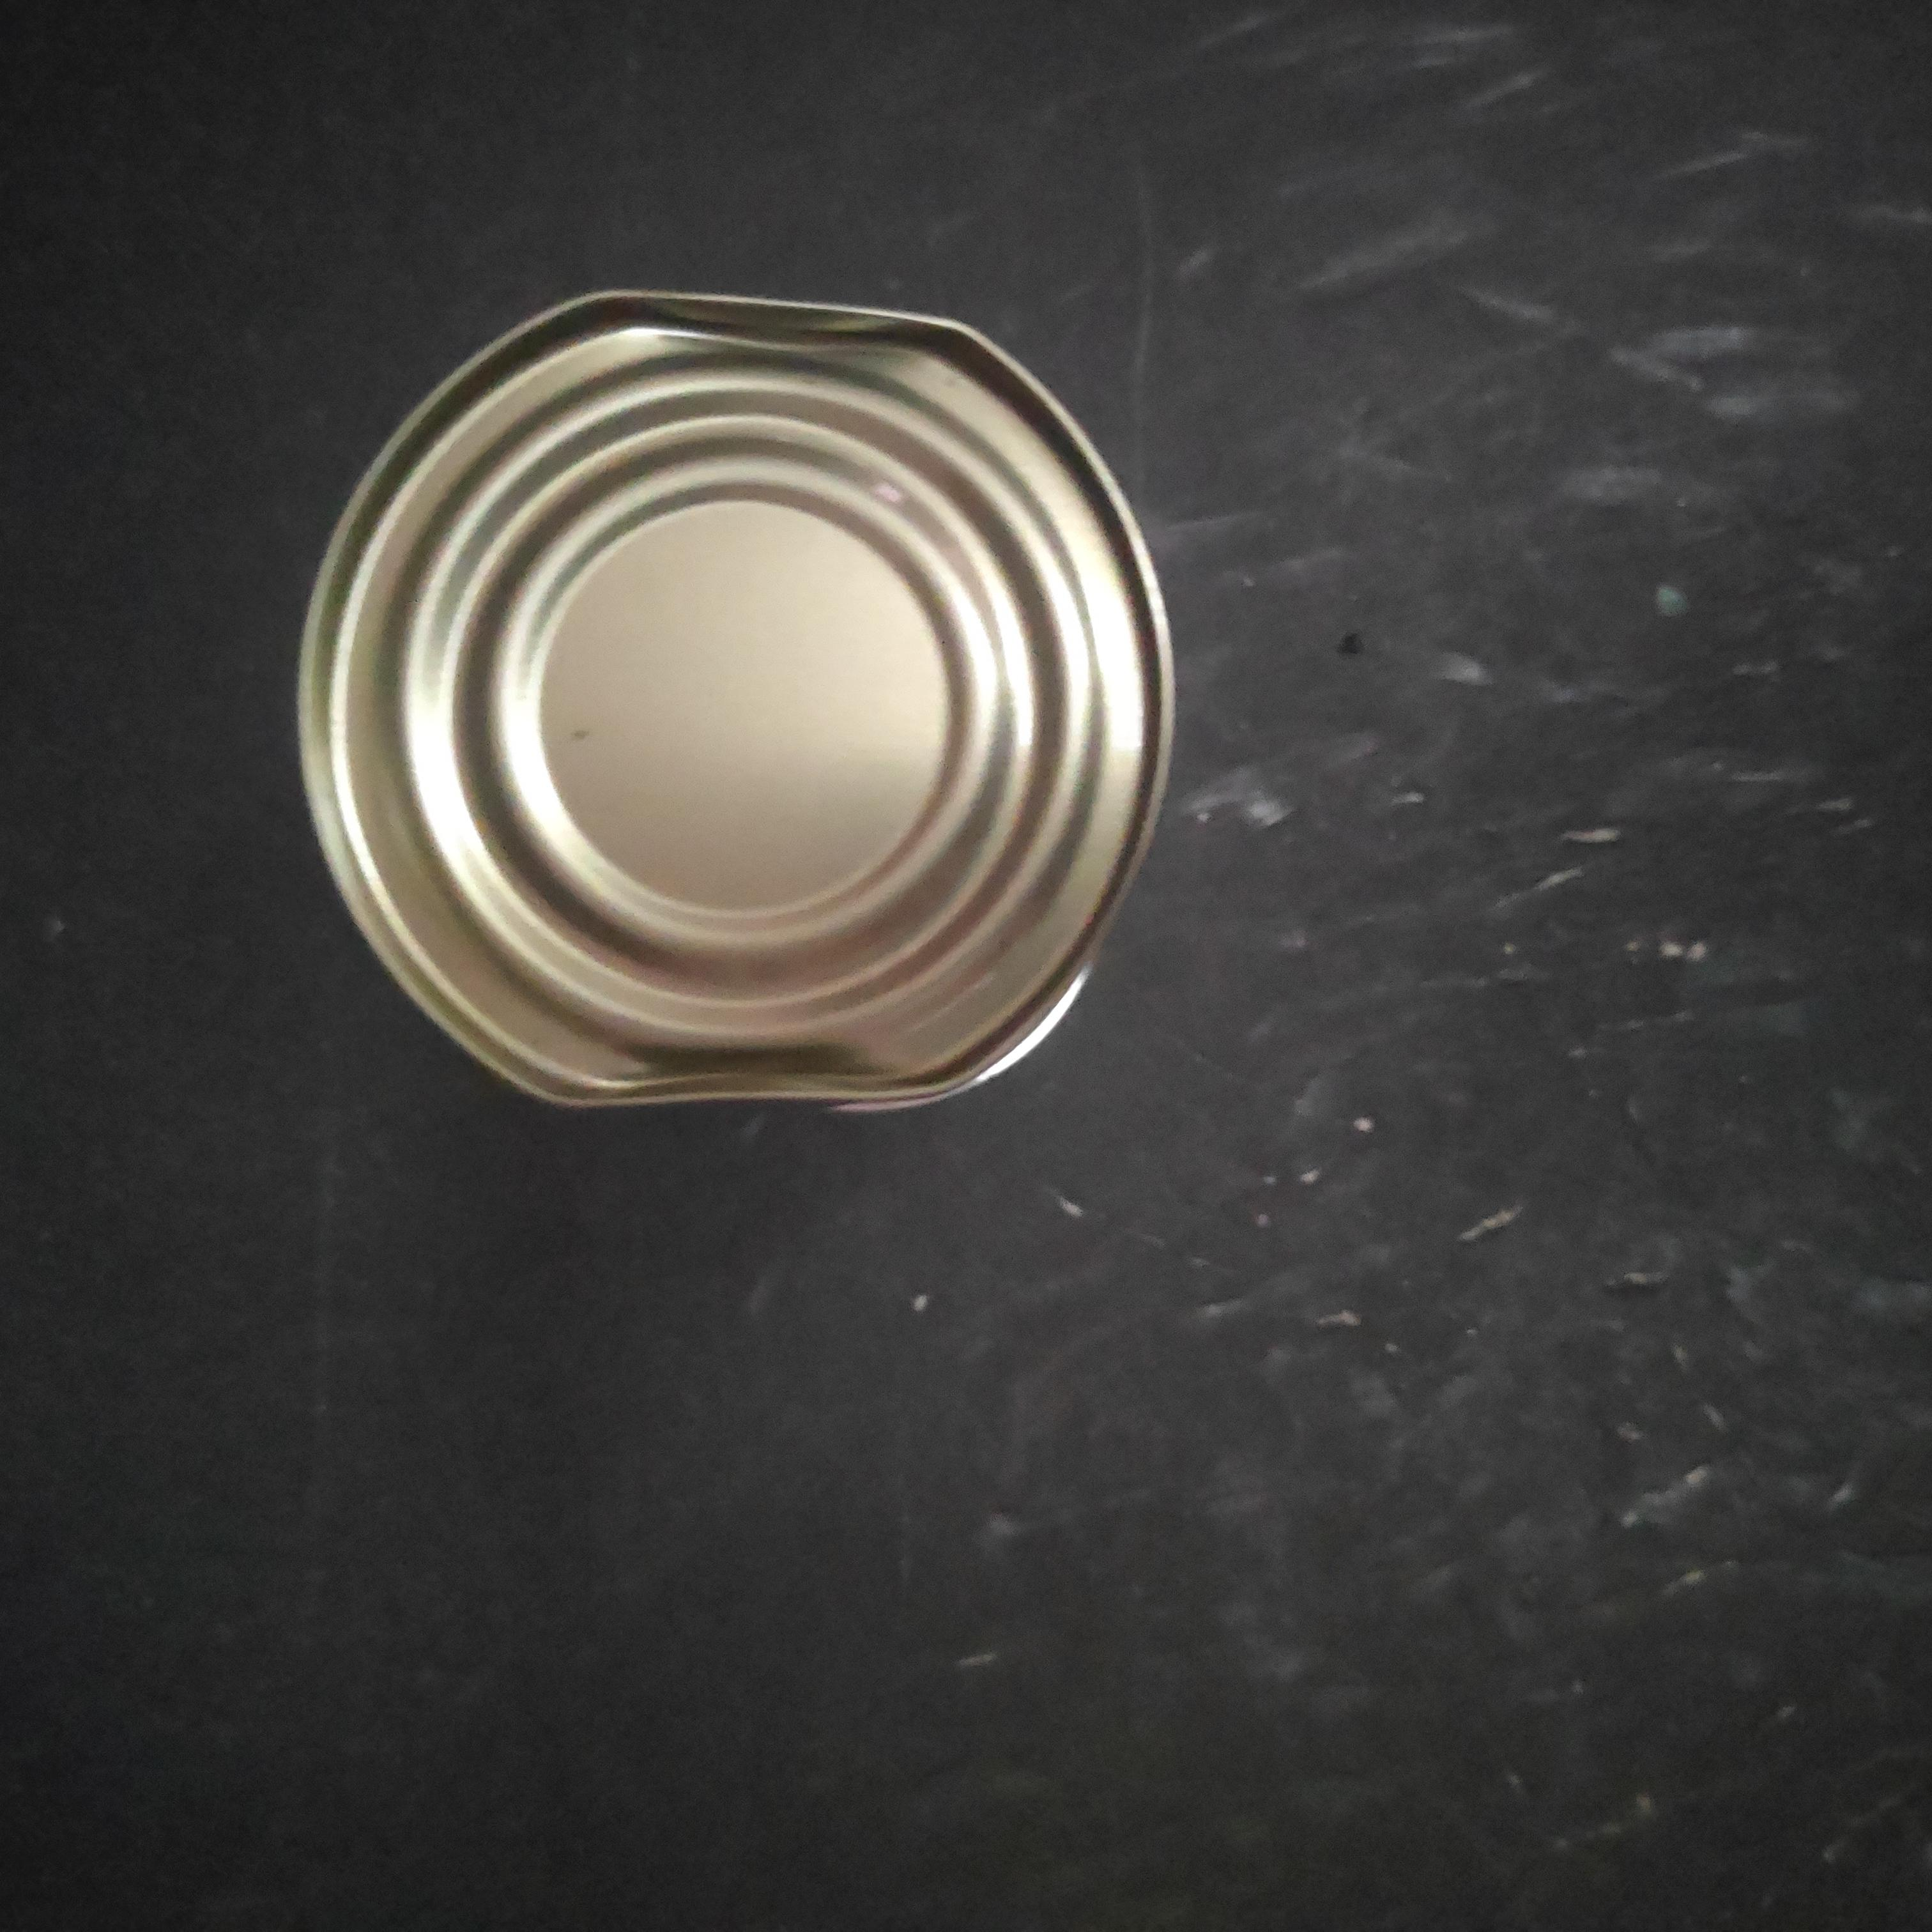Minor Defect: (720, 803, 1652, 1663)
